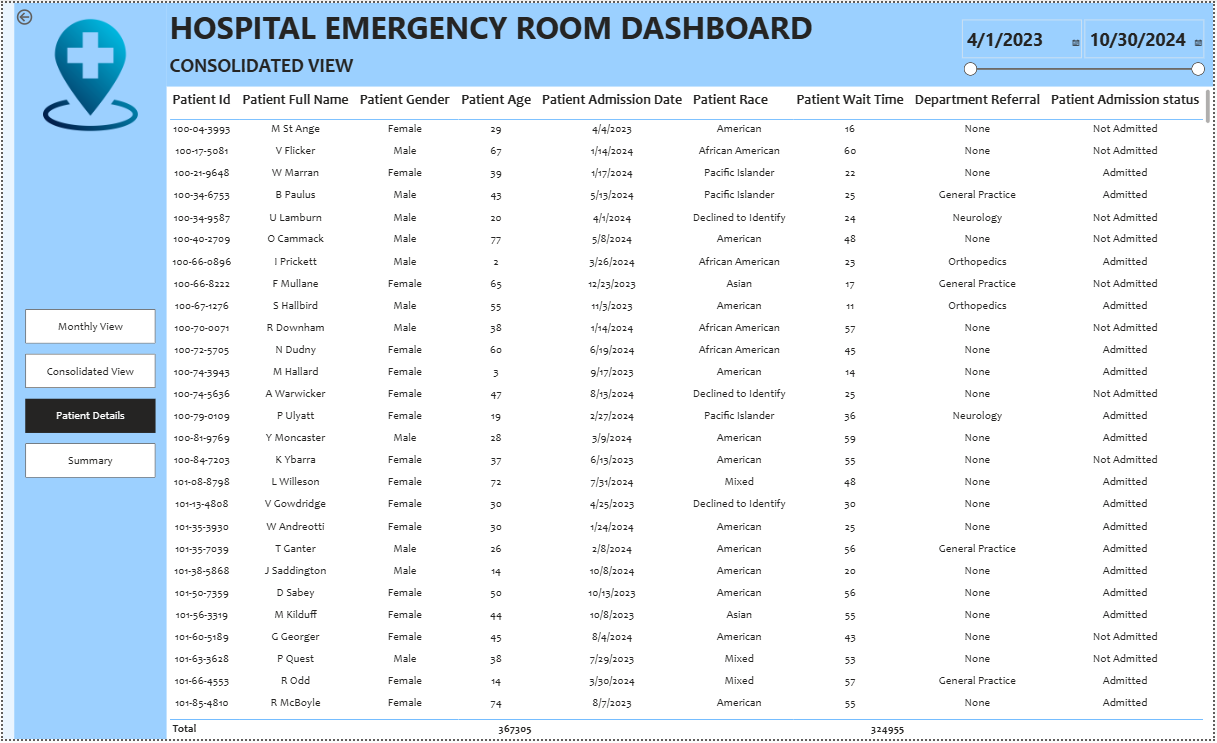

This screenshot's page, from the dashboard's own definition file:
{"tool":"powerbi","page":{"name":"Patient Details","canvas":[2302,1400],"ordinal":2},"visuals":[{"type":"shape","box":[21.4,0,290.1,1400.5],"z":0},{"type":"shape","box":[311.5,0,1990.2,159.3],"z":1000},{"type":"textbox","box":[310.8,0,1265.3,90.6],"z":2000},{"type":"textbox","box":[311.5,90.4,544.5,69],"z":3000},{"type":"slicer","title":"DATE","fields":{"Values":["Date Table.Date"]},"box":[1811.8,21.4,482.7,118.9],"z":4000},{"type":"actionButton","box":[22,7.3,105.2,39.2],"z":5000},{"type":"image","box":[54.7,21.4,223.5,230.6],"z":6000},{"type":"tableEx","fields":{"Values":["hospital data.Patient Id","hospital data.Full Name","hospital data.Patient Gender","hospital data.Patient Age","hospital data.Patient admin date","hospital data.Patient Race","hospital data.Patient Waittime","hospital data.Department Referral","hospital data.Patient Admission status"]},"box":[311.5,159.3,1990.2,1241.2],"z":7000},{"type":"pageNavigator","box":[42.8,582.5,247.3,321],"z":8000}]}

Visuals, with their boxes in screenshot pixels (x1, y1, x2, y2), scaled from the page's 2302x1400 canvas onto the 1217x743 screenshot:
shape: (11,0,165,742)
shape: (165,0,1216,85)
textbox: (164,0,833,48)
textbox: (165,48,453,85)
"DATE" slicer: (958,11,1213,74)
actionButton: (12,4,67,25)
image: (29,11,147,134)
tableEx - hospital data.Patient Id x hospital data.Full Name: (165,85,1216,742)
pageNavigator: (23,309,153,480)
